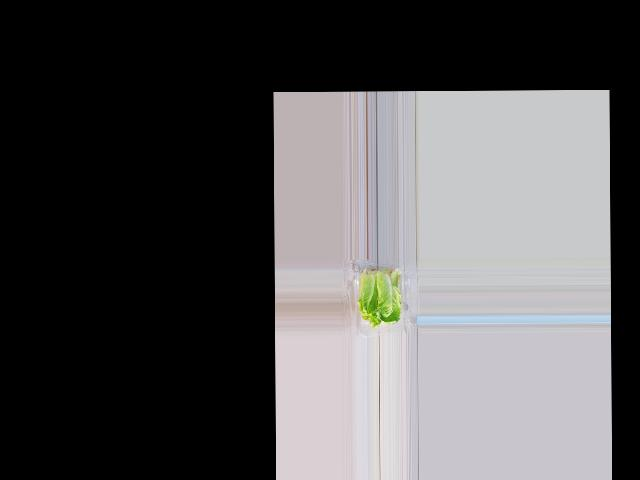lettuce: (357, 271, 401, 327)
